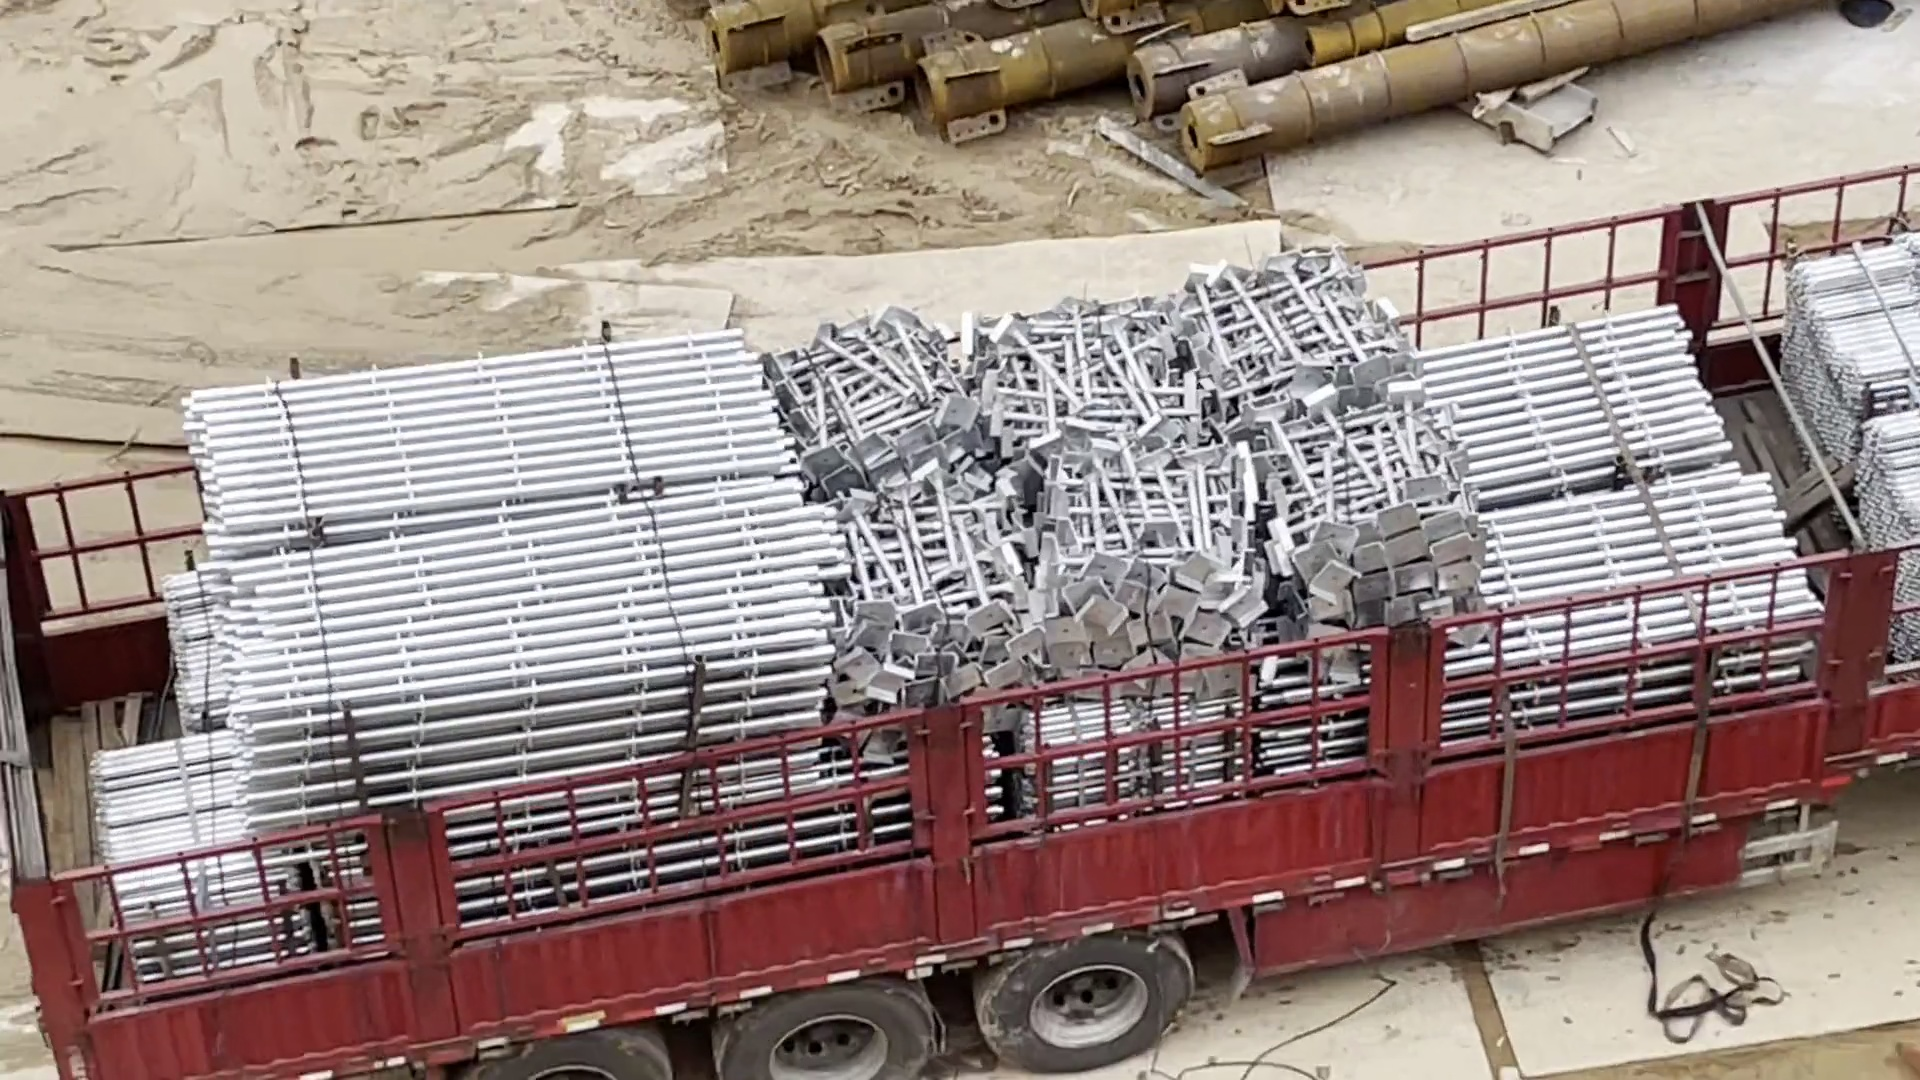scaffold: (92, 328, 837, 956), (1414, 303, 1821, 741), (1782, 233, 1920, 667)
